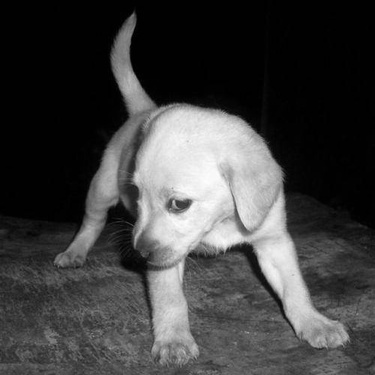dog: (51, 6, 351, 369)
